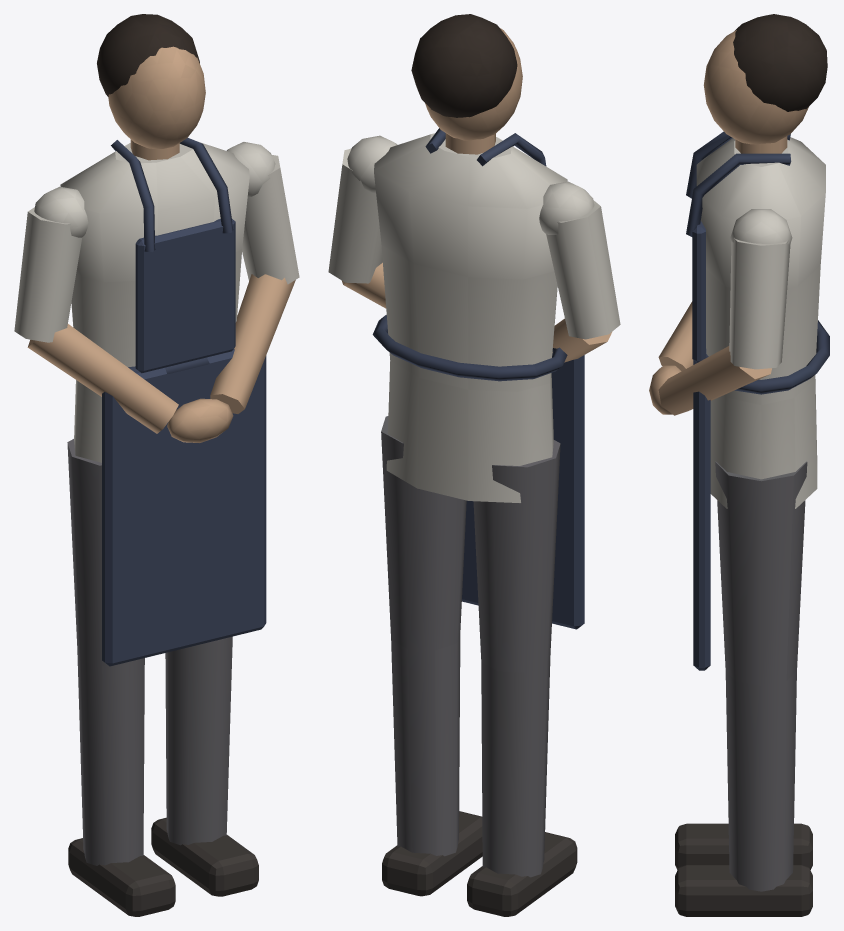
Rendered from people_shopkeeper_01.glb.
3 renders of one model, left to right at view 1: azimuth 30°, elevation 25°; view 2: azimuth 150°, elevation 25°; view 3: azimuth 270°, elevation 25°, orthographic. The views are drawn at different scales.
Parts seen in each view (by area): view 1: people_shopkeeper_01; view 2: people_shopkeeper_01; view 3: people_shopkeeper_01.
Part boxes in pixels (left/top/right/bottom): people_shopkeeper_01: left=14, top=14, right=299, bottom=916; people_shopkeeper_01: left=328, top=14, right=620, bottom=916; people_shopkeeper_01: left=649, top=14, right=829, bottom=916.
Bounding box in the file's own units: 0.5679 × 1.67 × 0.3141.
